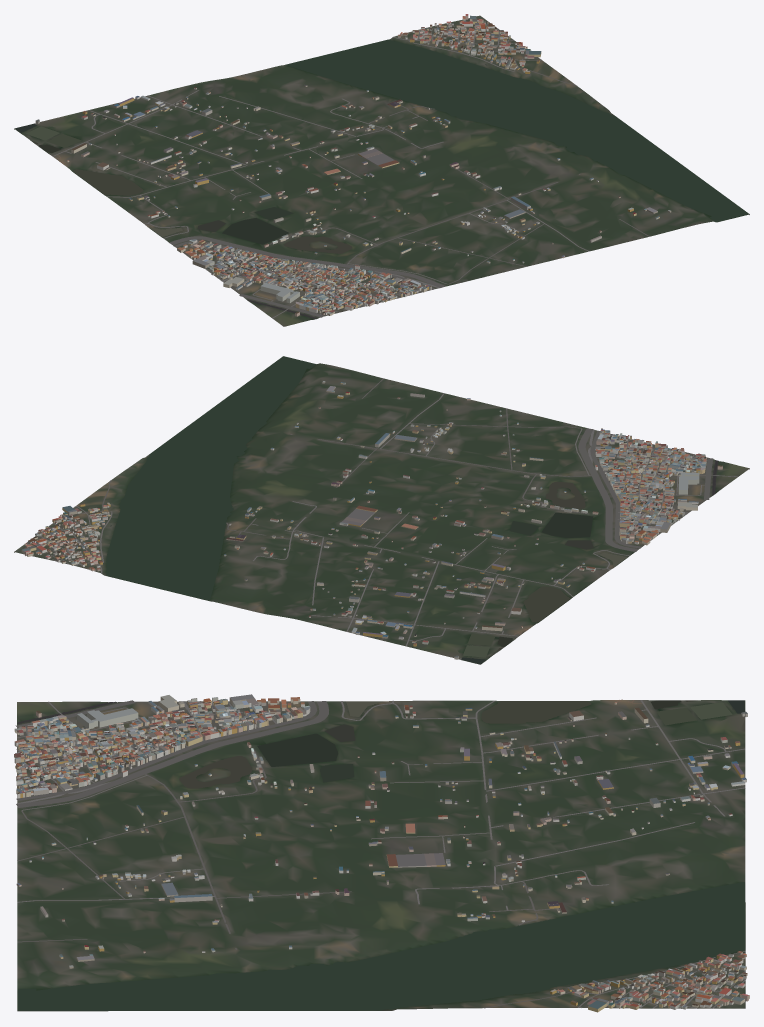
3 views of the same model, one above another, from view 1: azimuth 30°, elevation 25°; view 2: azimuth 150°, elevation 25°; view 3: azimuth 270°, elevation 25° (orthographic). The views are drawn at different scales.
Parts seen in each view (by area): view 1: ground, water, buildings, roads; view 2: ground, water, buildings, roads; view 3: ground, water, buildings, roads.
Part boxes in pixels (x1,y1,x2,y2): ground: (14, 15, 749, 326); water: (15, 39, 748, 318); buildings: (35, 14, 671, 316); roads: (34, 24, 649, 318); ground: (14, 356, 749, 664); water: (106, 356, 718, 664); buildings: (21, 381, 722, 659); roads: (26, 378, 737, 659); ground: (17, 700, 745, 1011); water: (17, 700, 744, 1010); buildings: (14, 694, 749, 1012); roads: (15, 699, 745, 1008).
Bounding box in the file's own units: 1432 × 20.89 × 1417.
